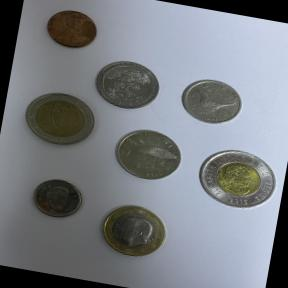1 Euro-B: (87, 194, 179, 268)
2 Euro-B: (14, 84, 102, 155)
Canada-10cent-B: (24, 168, 92, 226)
Canada-2Dollar-B: (186, 134, 288, 220)
Croatia-2Kune-B: (102, 116, 192, 192)
US-1cent-B: (32, 0, 108, 60)
US-25cent-B: (86, 48, 170, 116)
